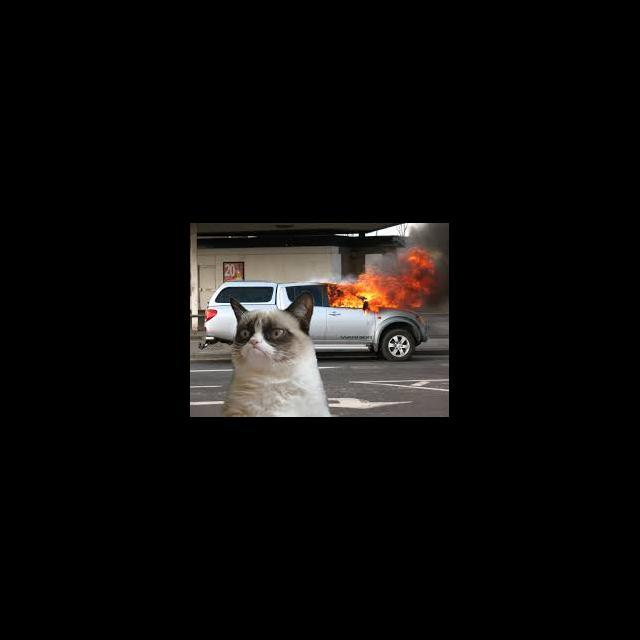Fire: (328, 247, 437, 312)
